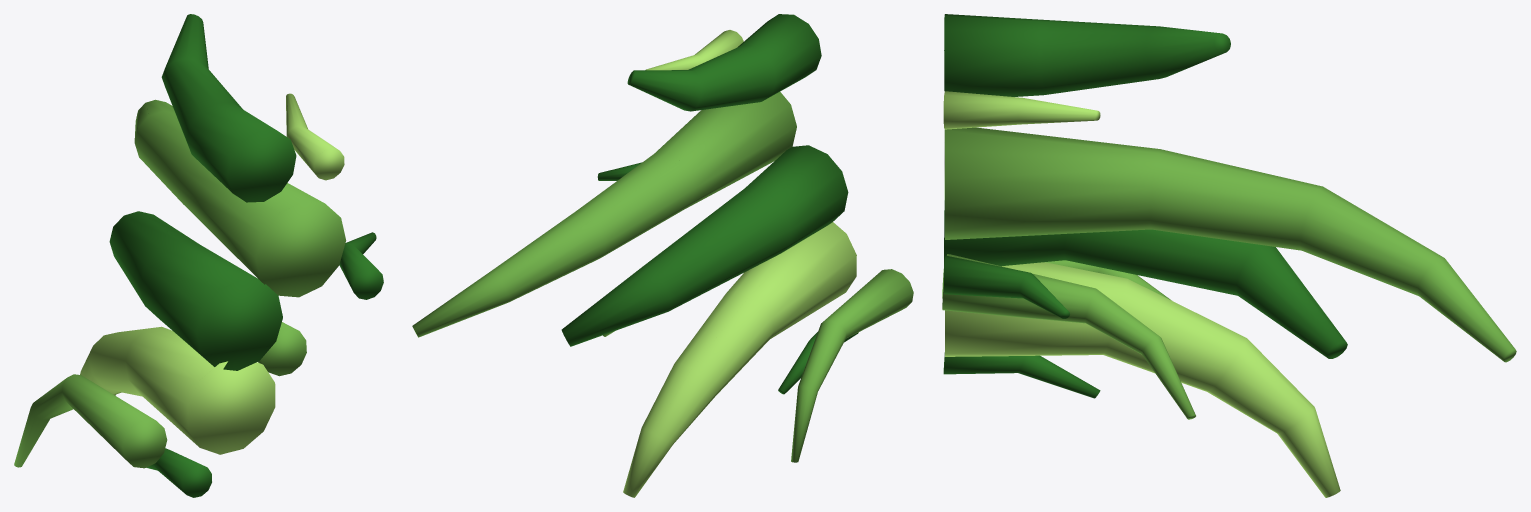
The model's file is grass2_turned.fbx.
3 renders of one model, left to right at view 1: azimuth 30°, elevation 25°; view 2: azimuth 150°, elevation 25°; view 3: azimuth 270°, elevation 25°, orthographic. The views are drawn at different scales.
Parts seen in each view (by area): view 1: grass2; view 2: grass2; view 3: grass2.
Boxes of the visible parts, x1,y1,x2,y2 form: grass2: (14, 14, 383, 497); grass2: (412, 14, 913, 497); grass2: (942, 14, 1516, 497).
Bounding box in the file's own units: 185 × 243 × 260.
